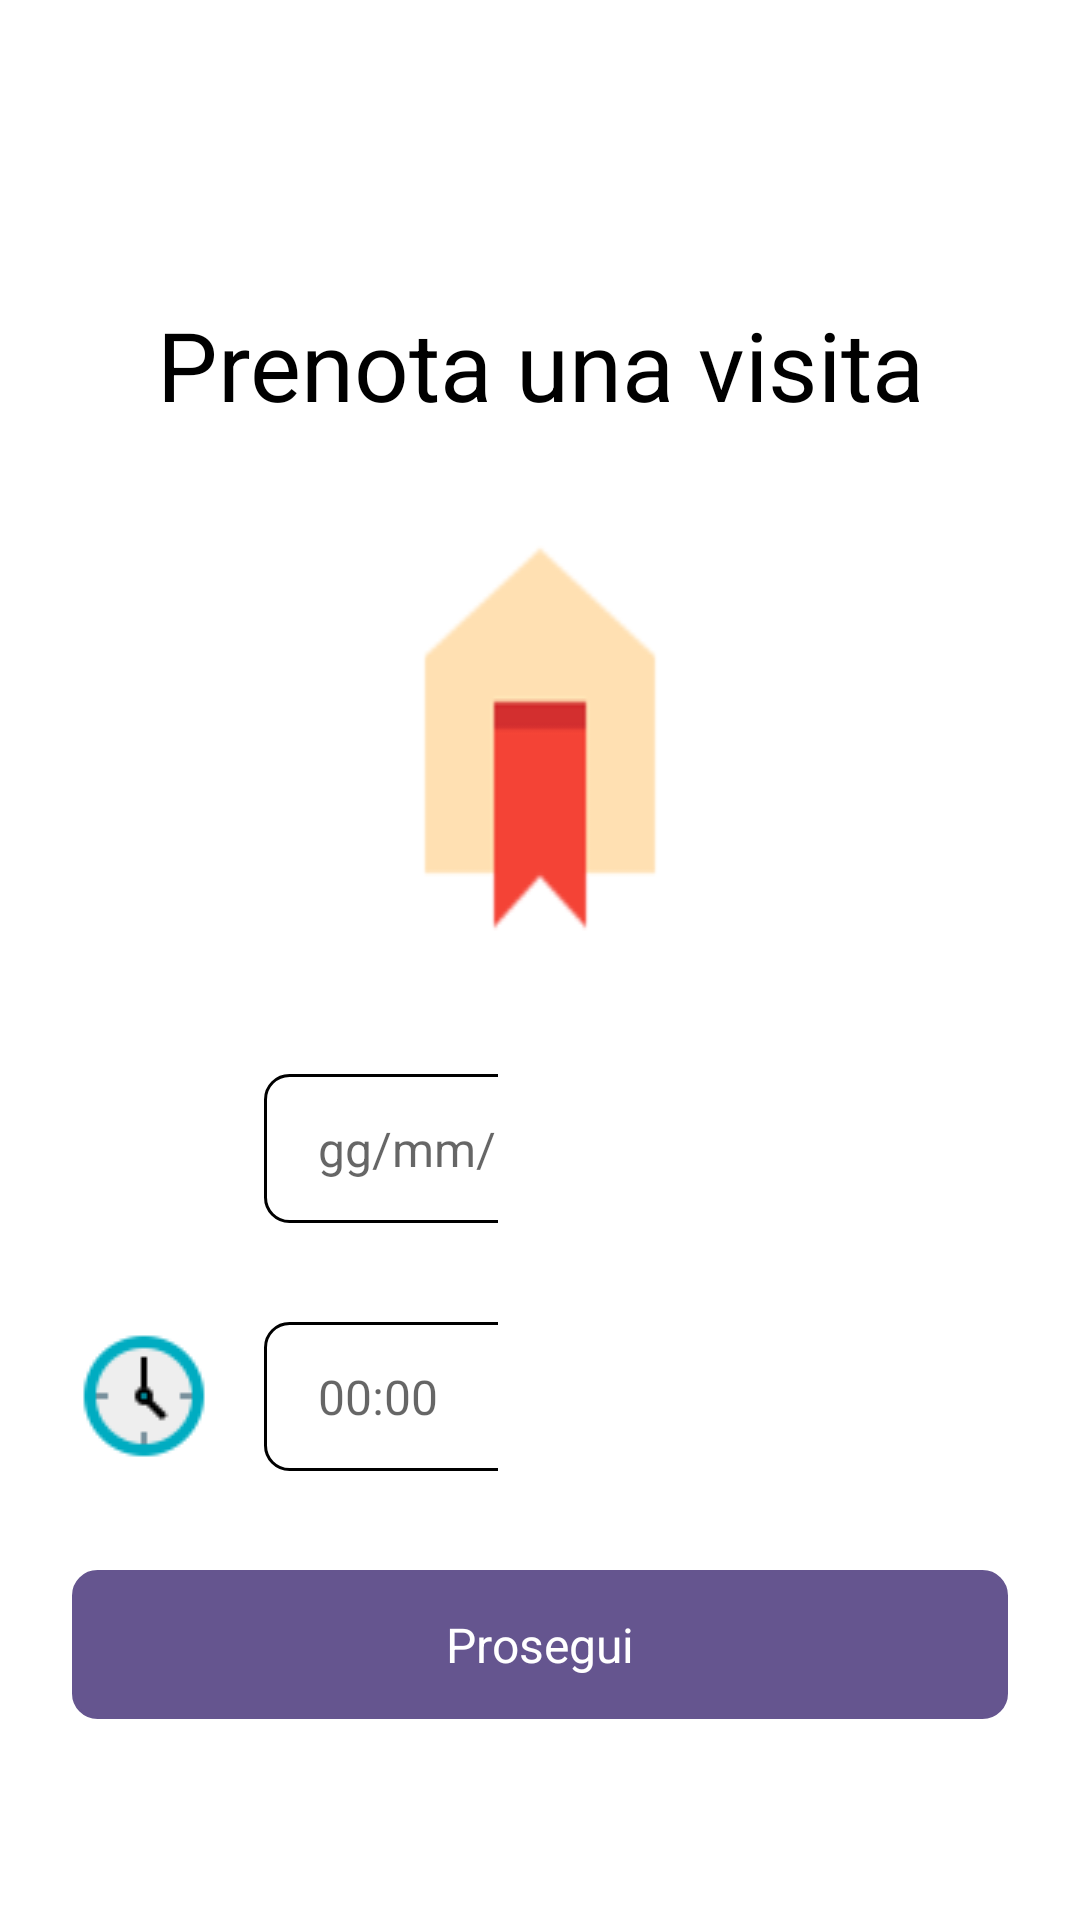

Where to tap for icons on this 1080px×1920px app screen, as (x,y):
clock: (144,1396)
